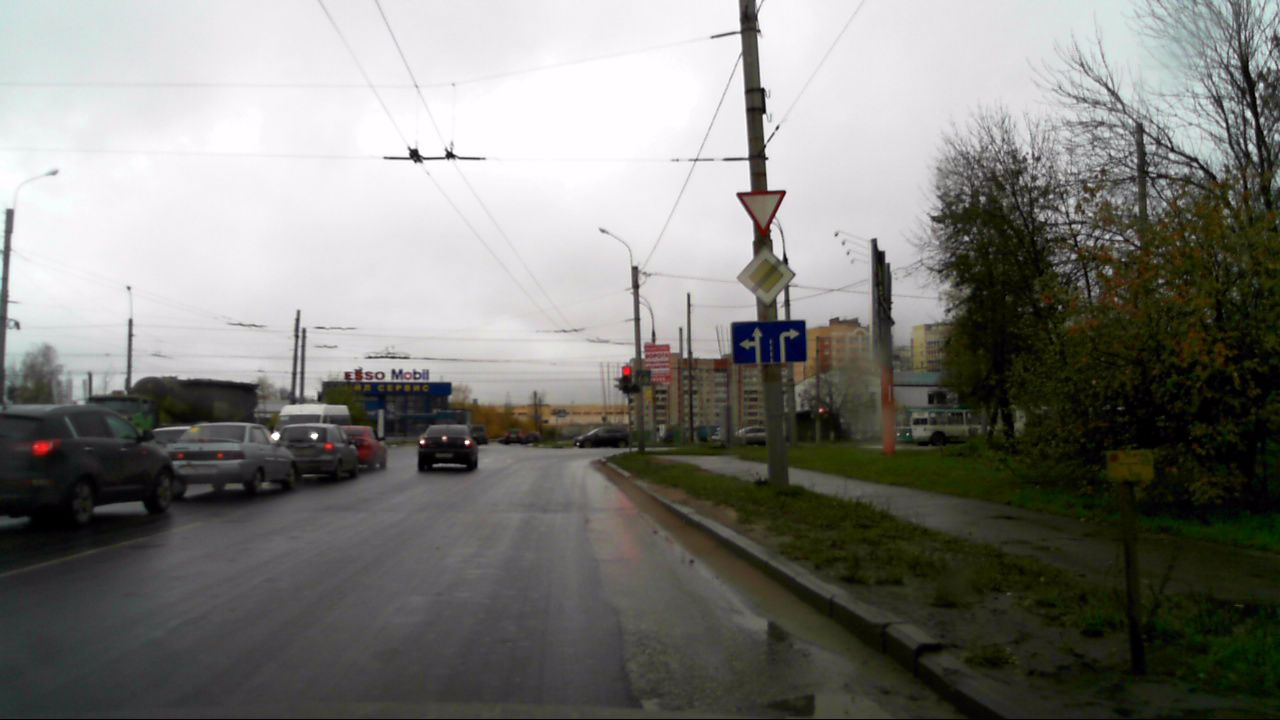main road: (736, 247, 795, 306)
